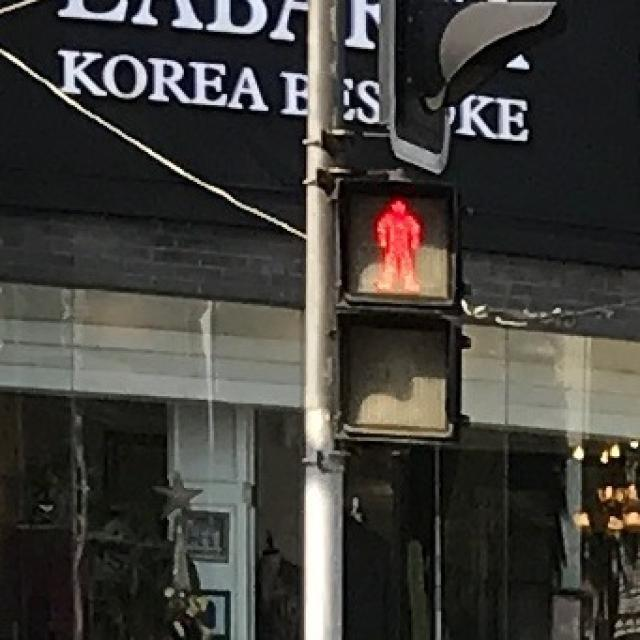red-crossing: (343, 178, 445, 300)
